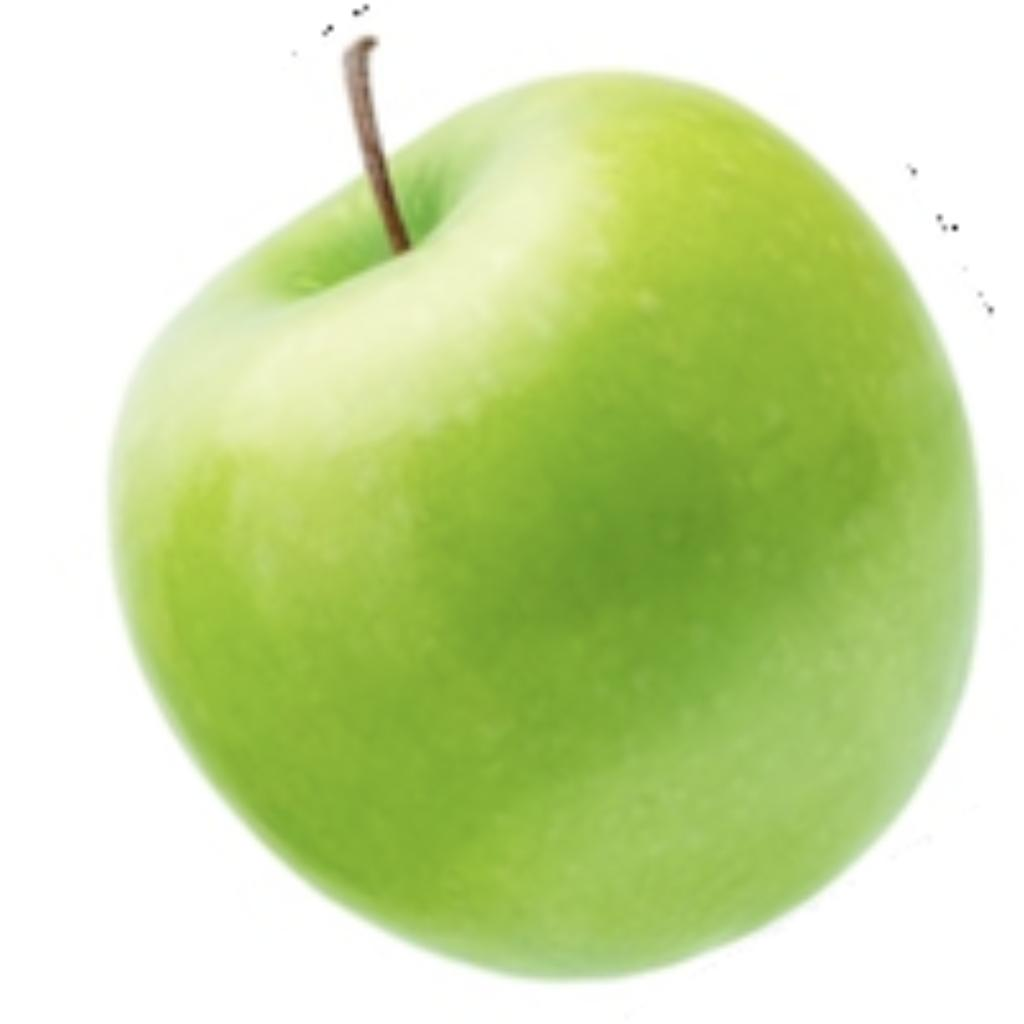apple: (97, 0, 988, 988)
